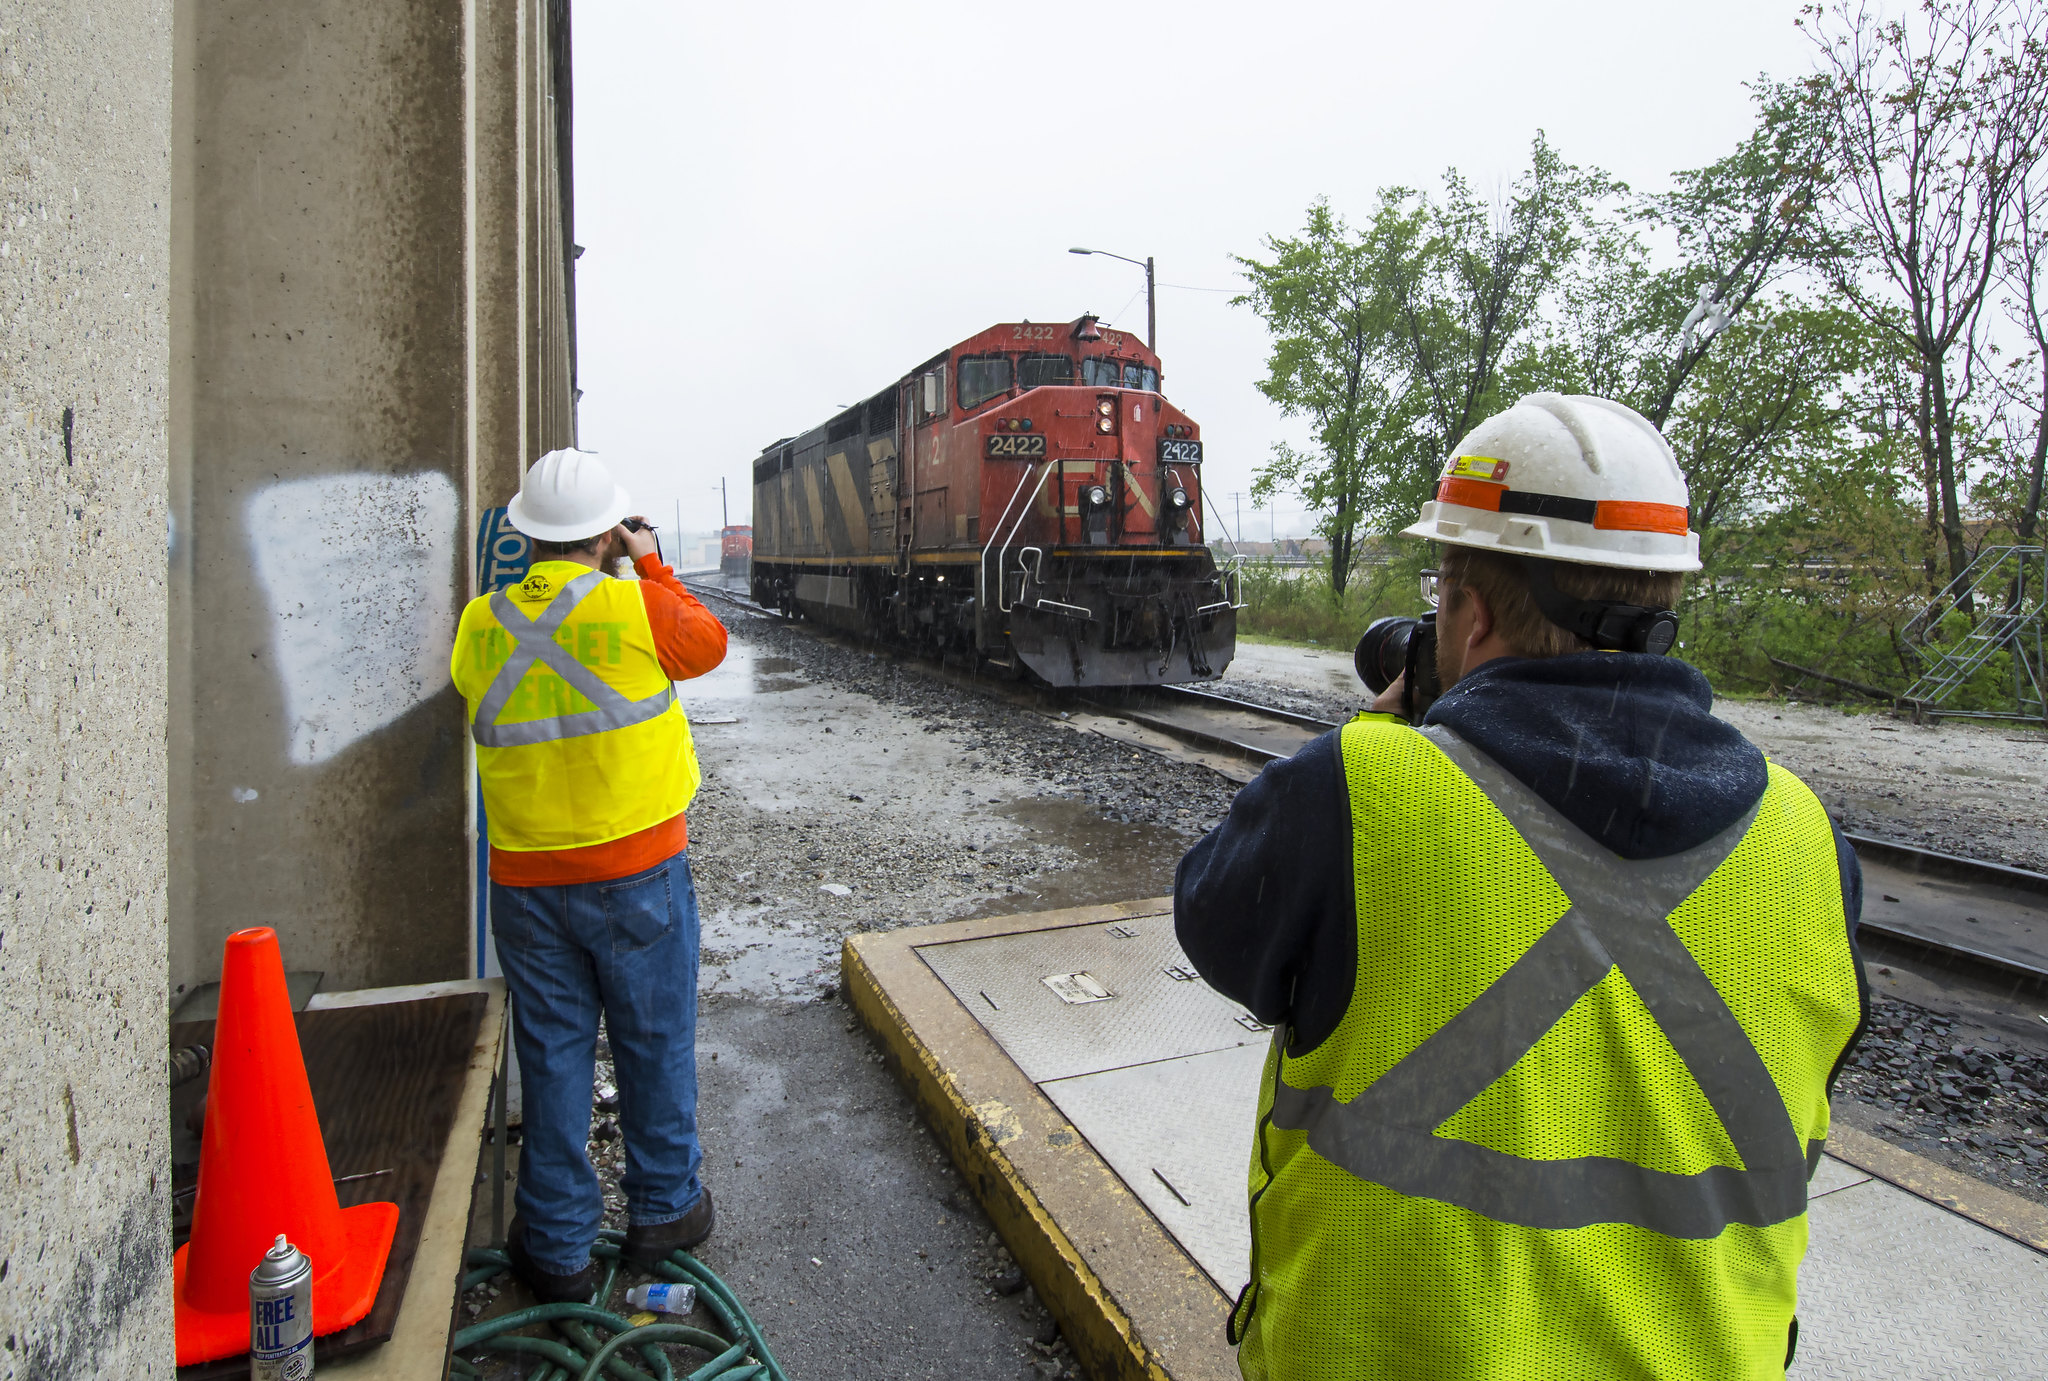Helmet: (1382, 359, 1735, 748), (485, 418, 670, 593)
Reflective vest: (1231, 712, 1874, 1381), (435, 564, 713, 851)
